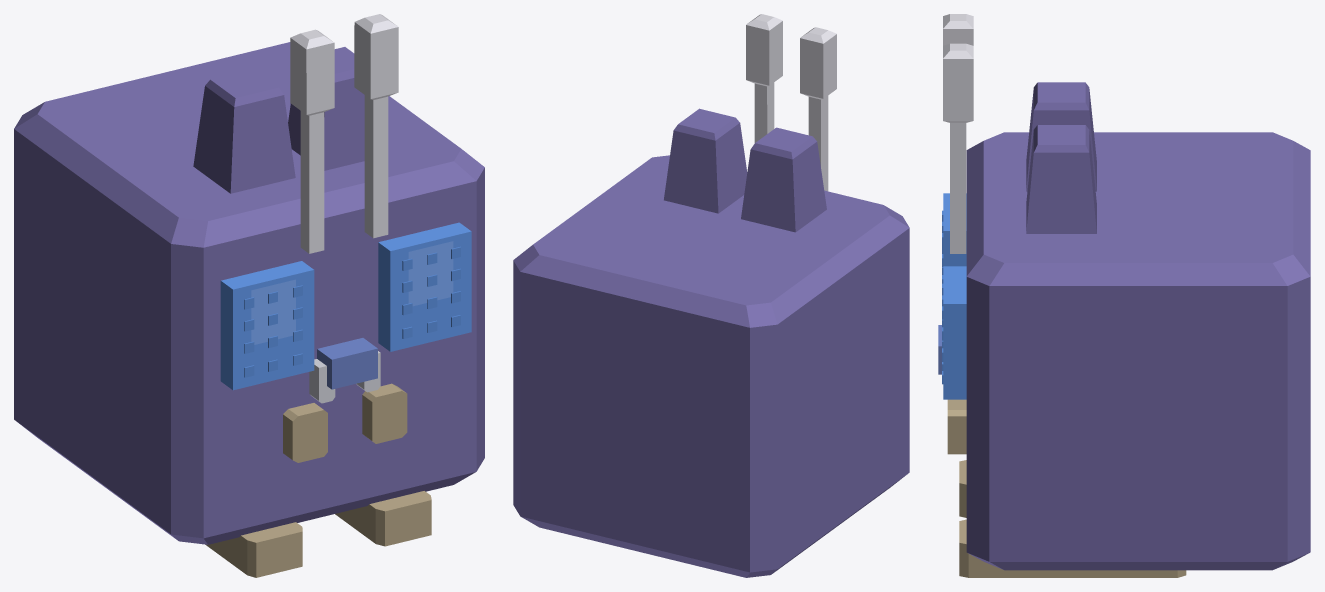
The model's file is model_shiny.obj.
3 renders of one model, left to right at view 1: azimuth 30°, elevation 25°; view 2: azimuth 150°, elevation 25°; view 3: azimuth 270°, elevation 25°, orthographic. The views are drawn at different scales.
Visible parts, largest first — view 1: 0048_venonat_shiny; view 2: 0048_venonat_shiny; view 3: 0048_venonat_shiny.
Part boxes in pixels (left/top/right/bottom): 0048_venonat_shiny: left=14, top=14, right=484, bottom=577; 0048_venonat_shiny: left=513, top=14, right=909, bottom=577; 0048_venonat_shiny: left=938, top=14, right=1310, bottom=577.
Bounding box in the file's own units: 1.13 × 1.82 × 1.22.
1 material, 1 textured.
